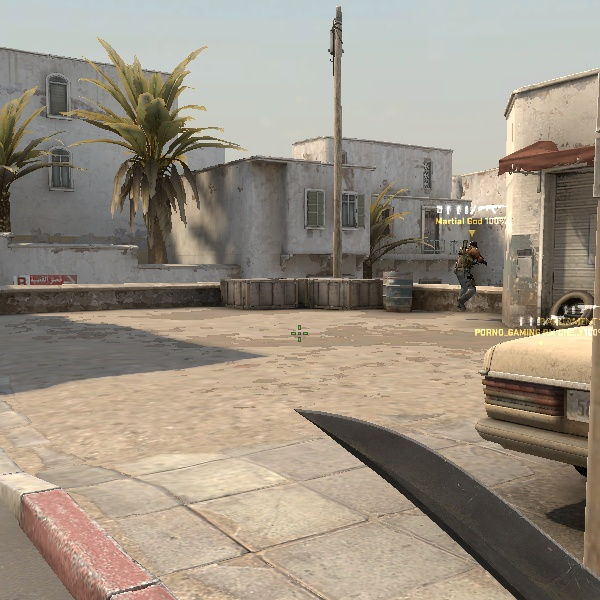t_body: (453, 240, 488, 309)
t_head: (469, 240, 479, 251)
